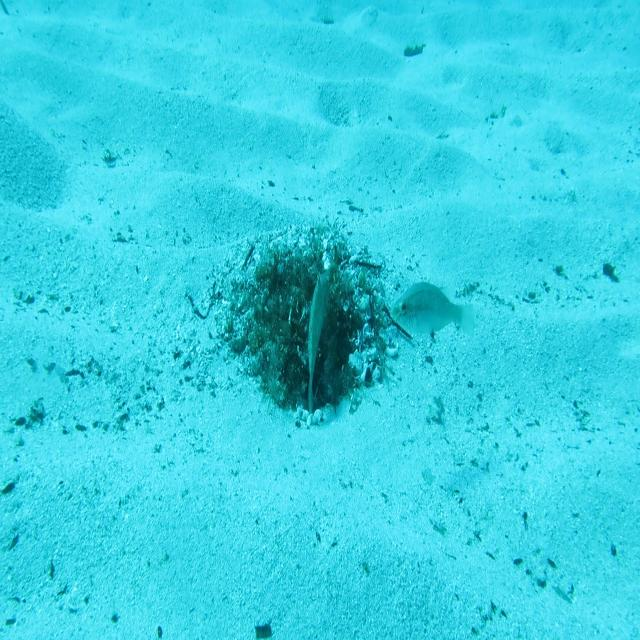FAN: (305, 264, 333, 420)
core_nest: (279, 268, 320, 292)
female: (389, 278, 478, 344)
nest: (211, 220, 409, 452)
vegetation: (402, 41, 427, 60), (602, 261, 620, 285), (254, 623, 274, 638)
